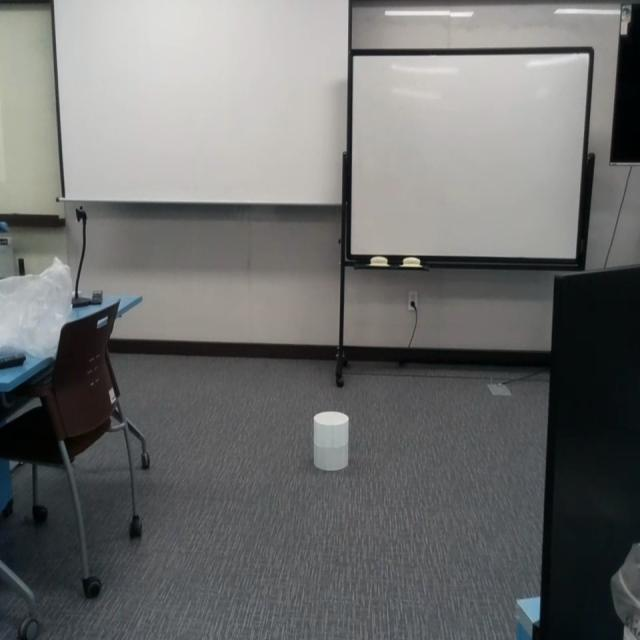cylinder: (312, 411, 349, 472)
